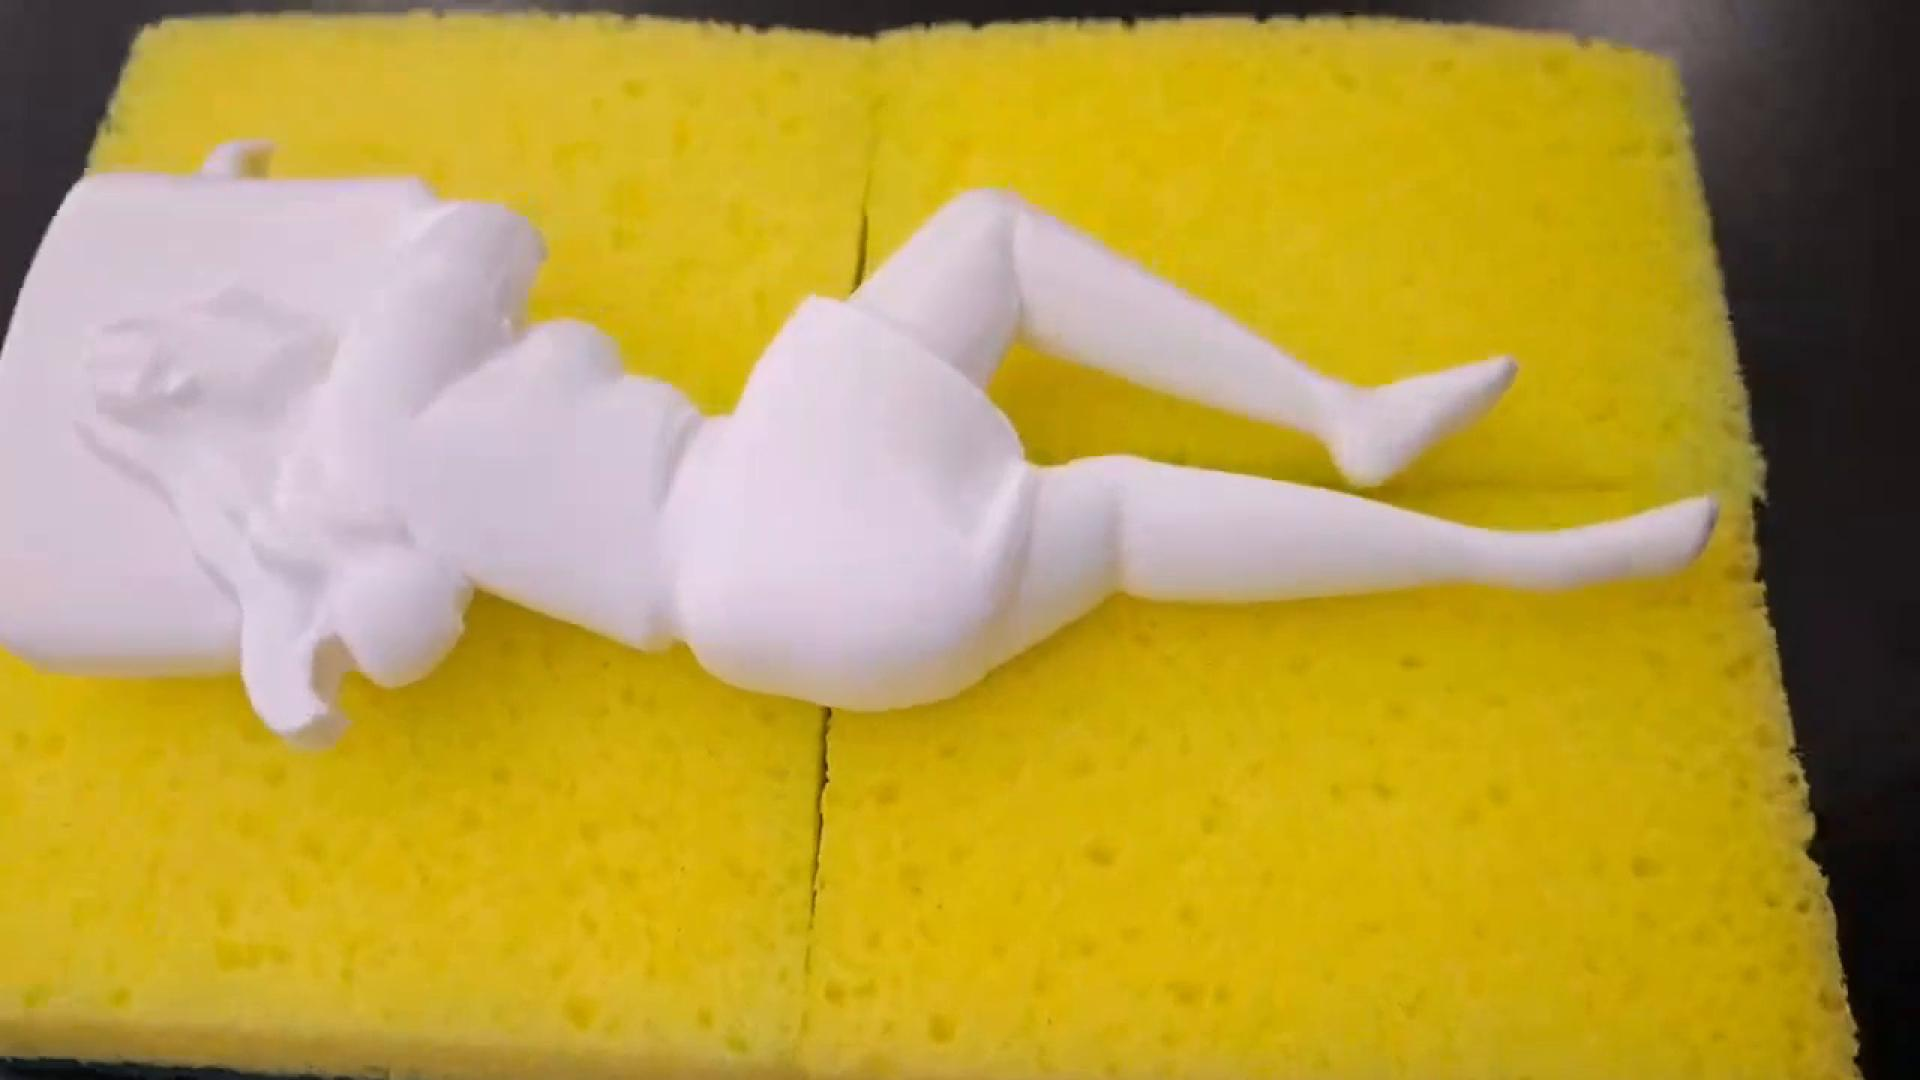Good-style: (0, 113, 1830, 750)
